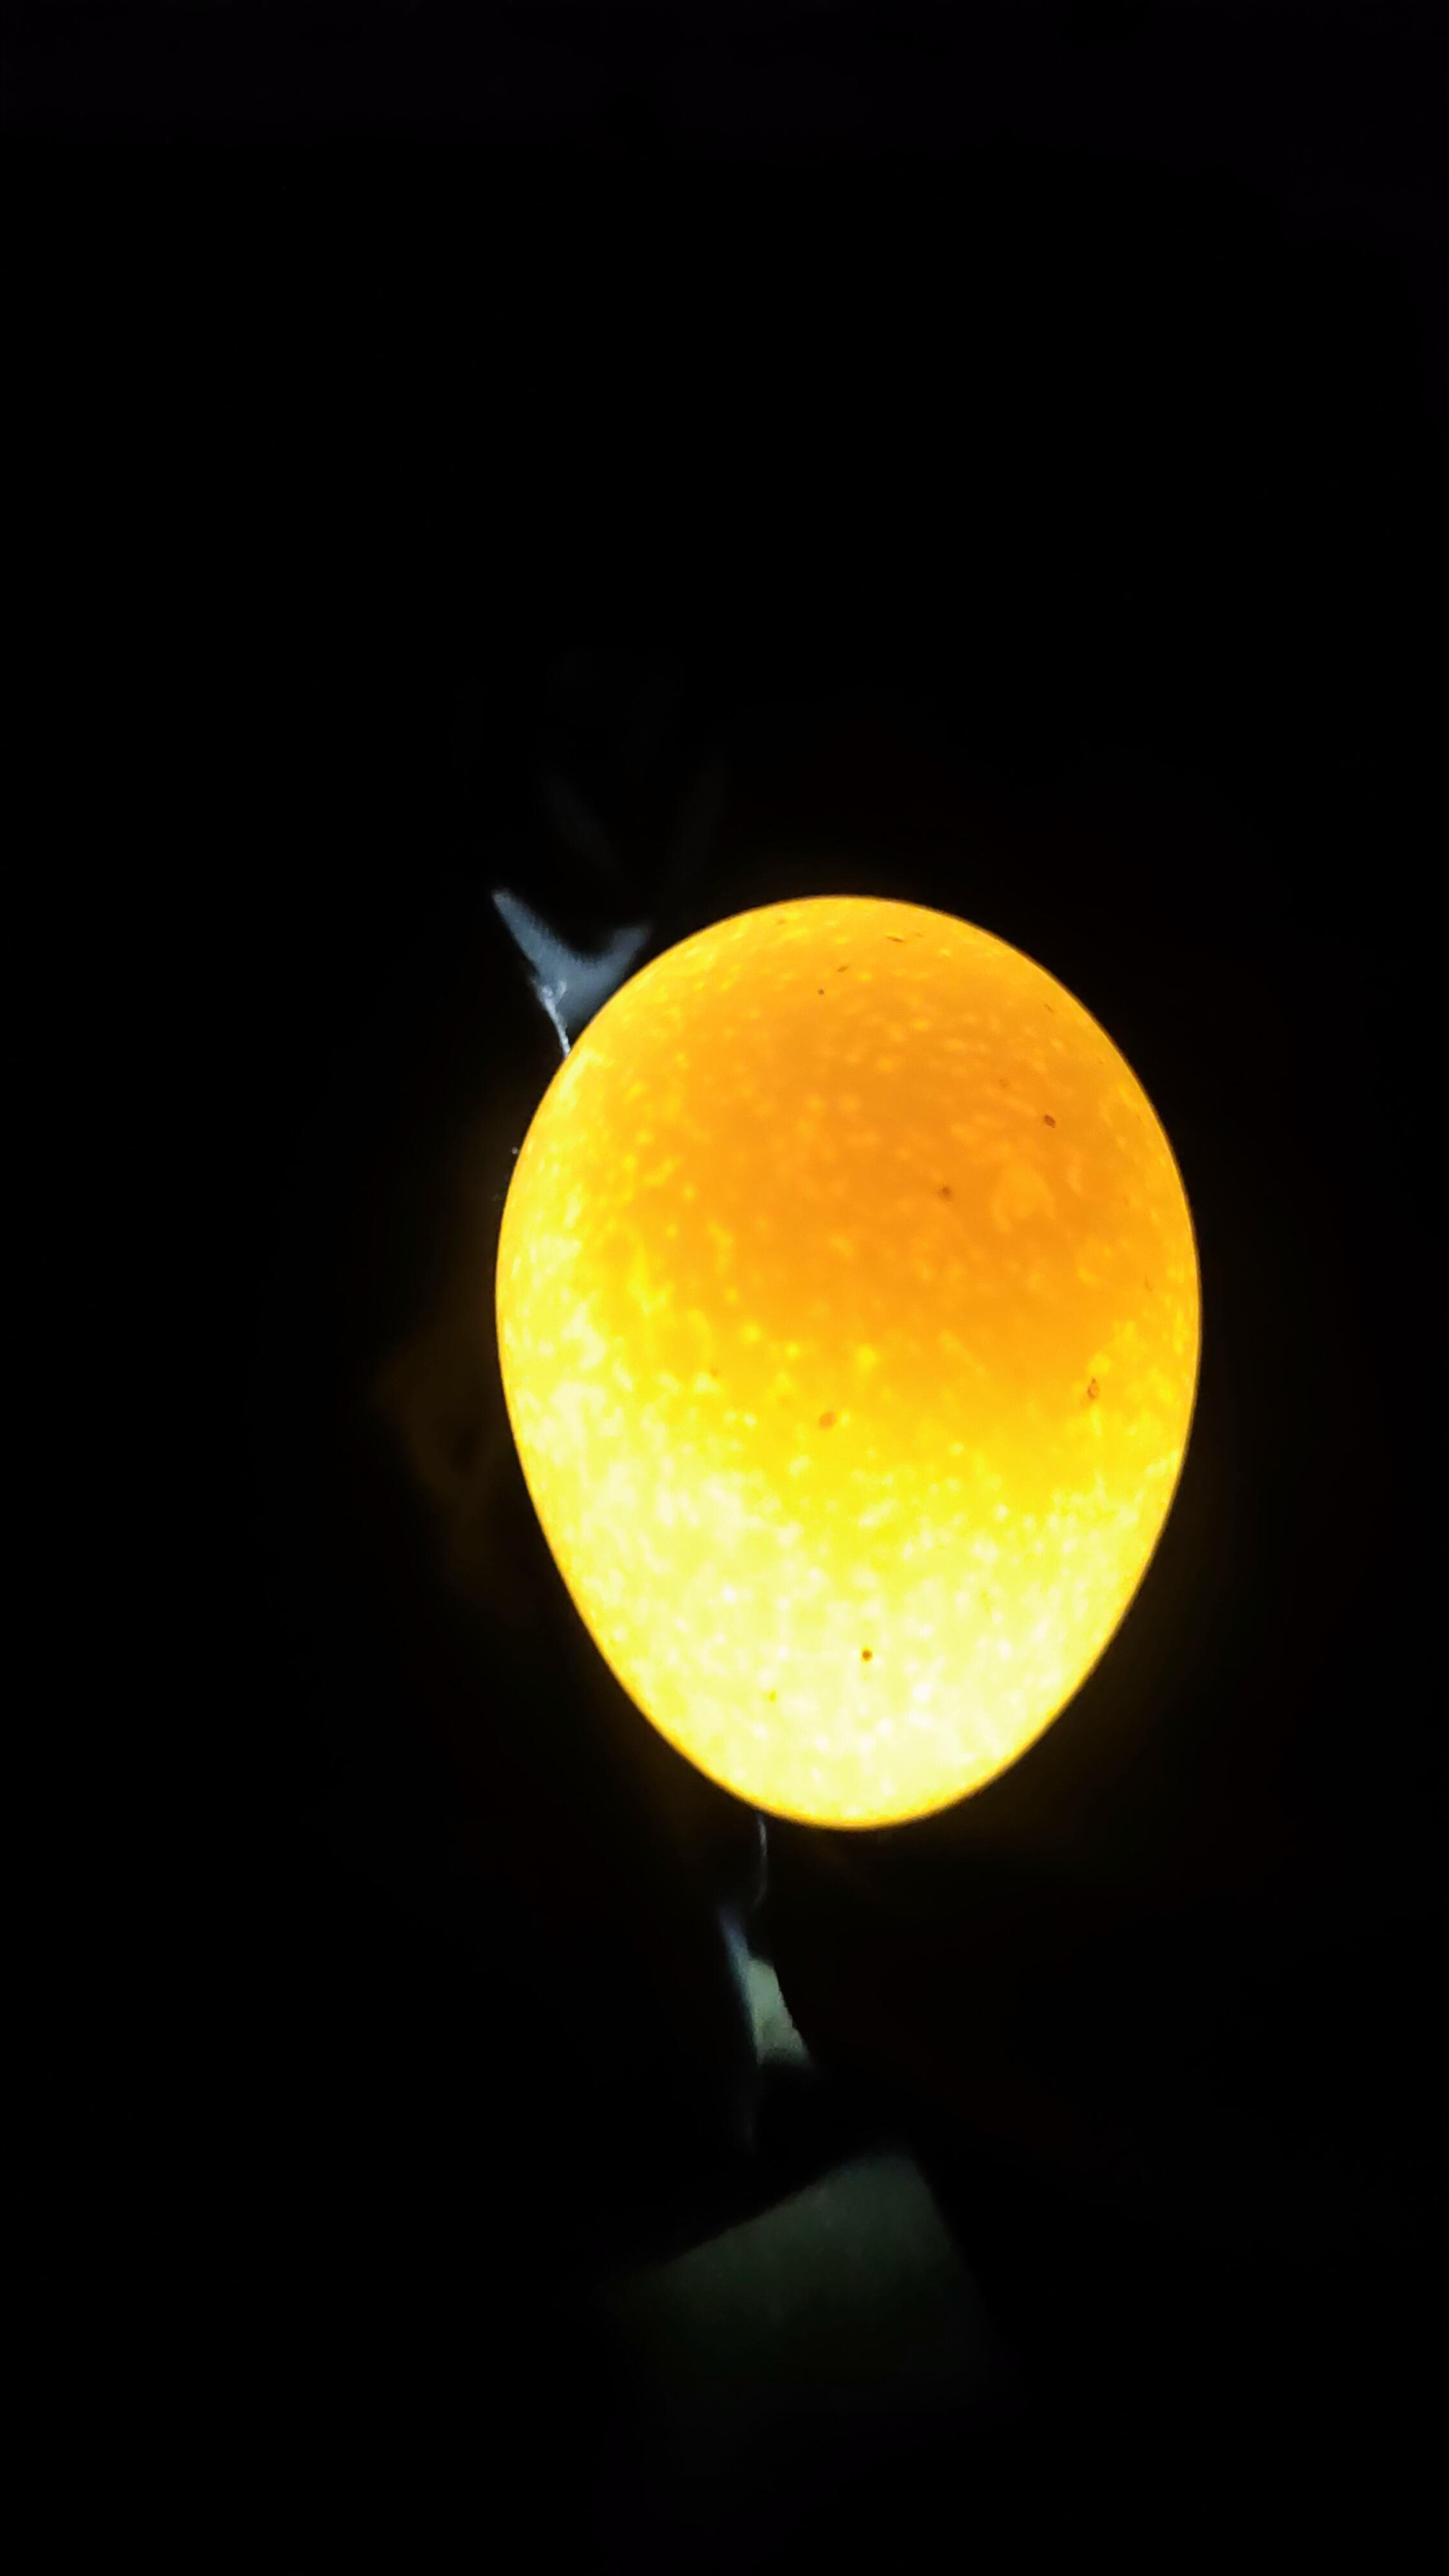A - Good: (419, 824, 1261, 1893)
